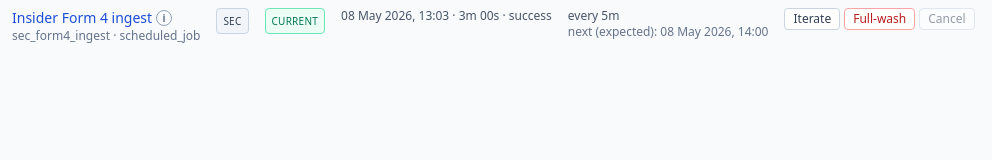
Scenario: ProcessRow › clicking the ⓘ pins the tooltip open; second click collapses
Step 1. Click the button with test id "process-description-tooltip" → (164, 18), box [156,10,172,26]
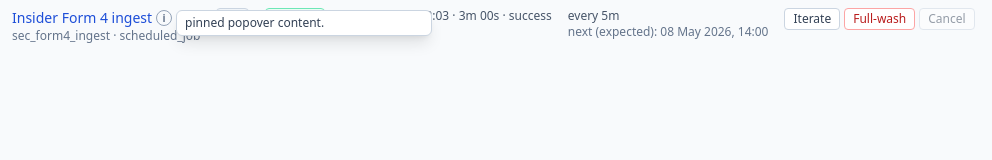
Expected: the tooltip reads "pinned popover content.", [185,14,324,31]
Step 2. Click the button with test id "process-description-tooltip" → (164, 18), box [156,10,172,26]
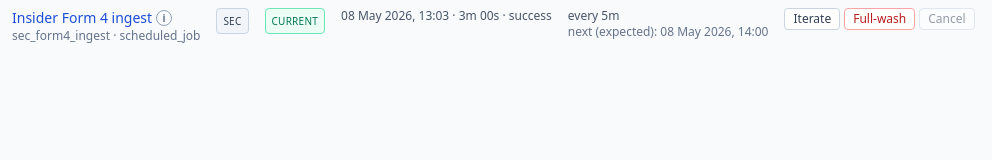
Expected: the tooltip "pinned popover content." is gone
